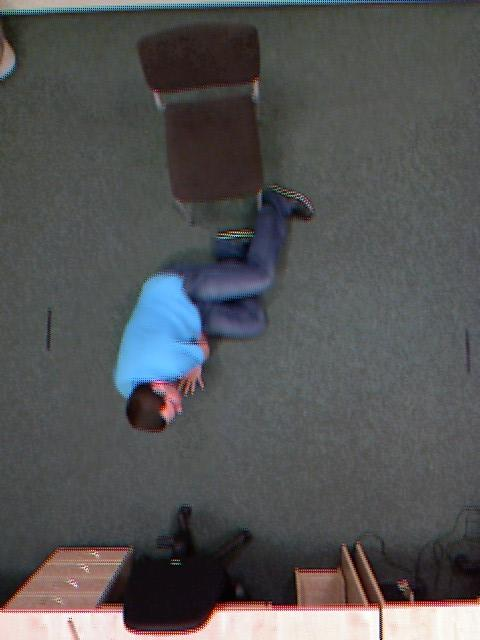fall: (111, 167, 311, 457)
